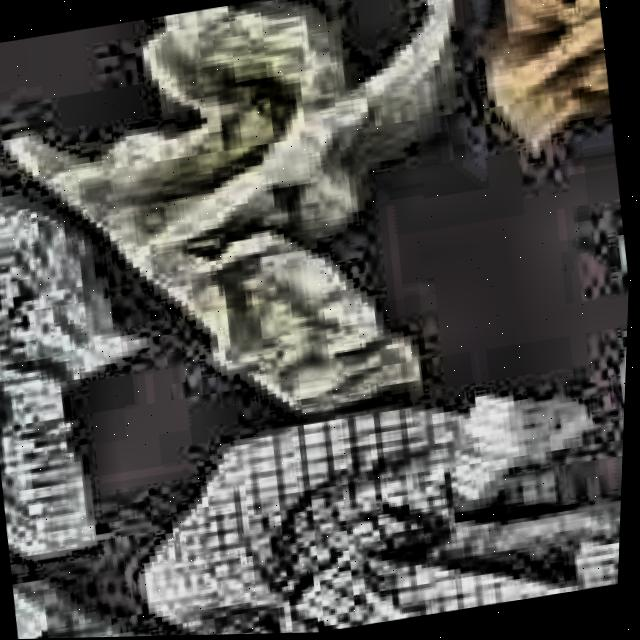paper: (0, 0, 522, 475), (112, 371, 629, 638), (0, 141, 170, 568), (328, 0, 621, 196)
